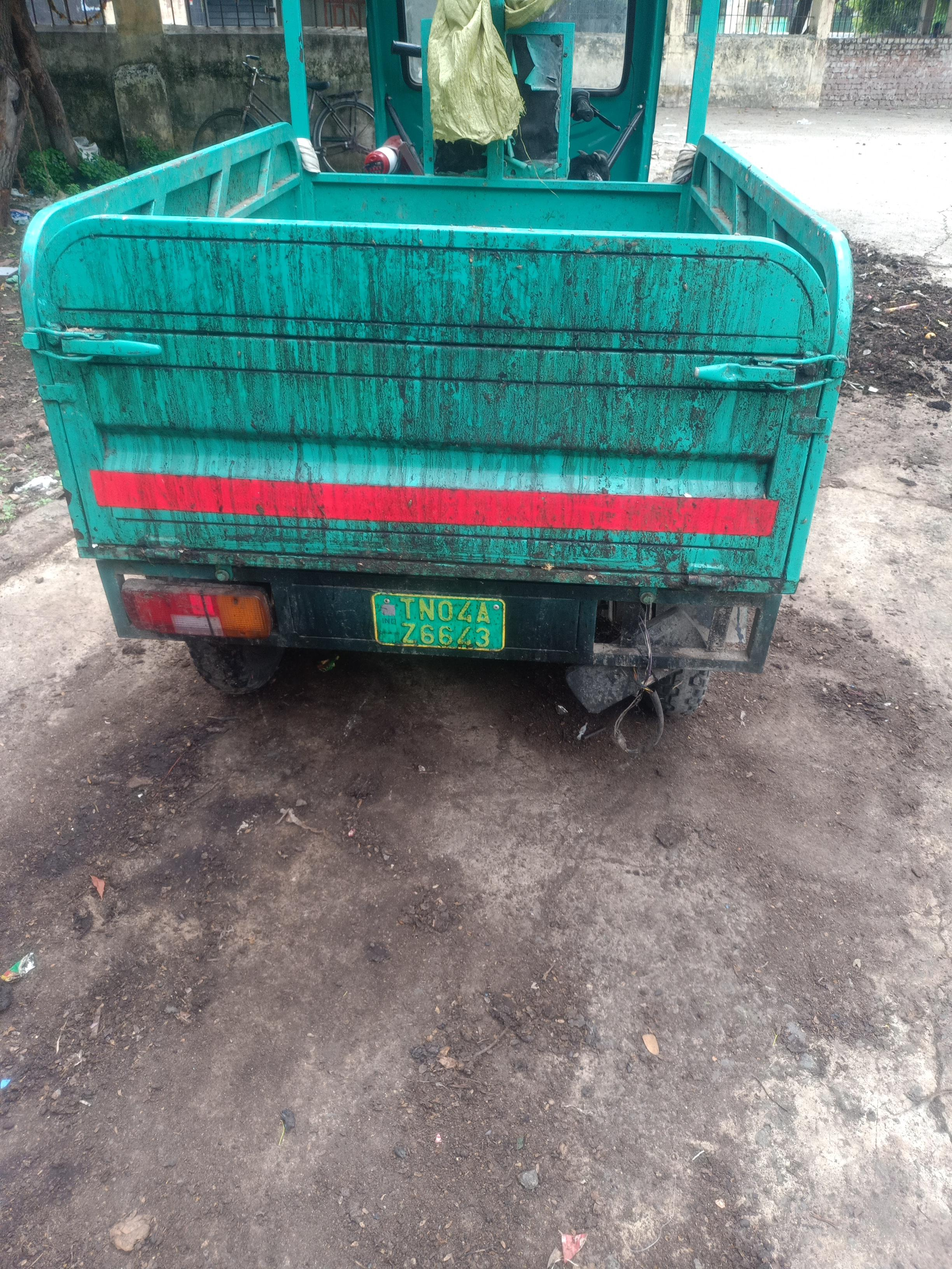green license plate: (366, 584, 511, 657)
